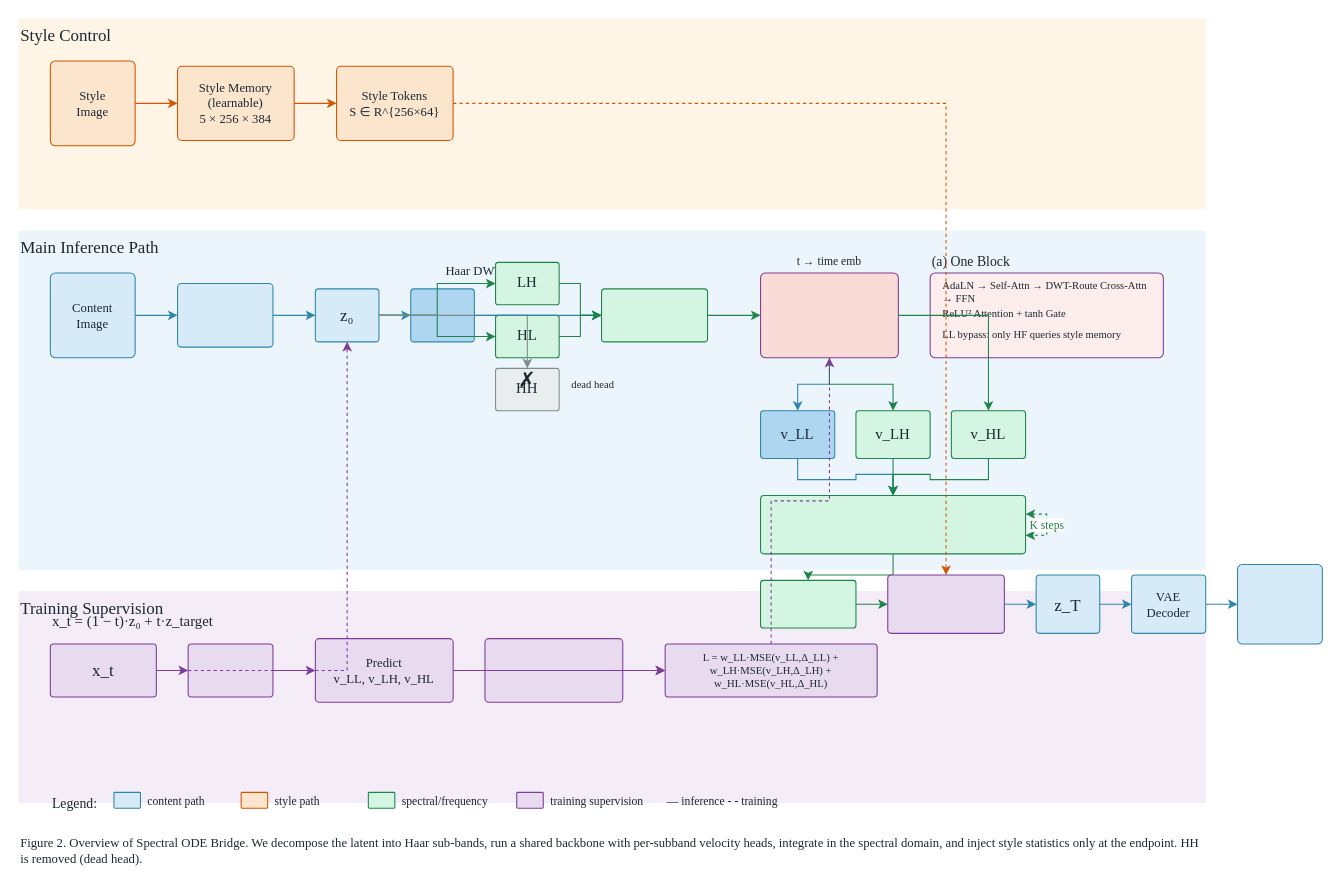
This 1341x884 diagram has some shape labels left out. Each missing label, with the centre of its shape:
Backbone (×4 blocks) Shared Representation: [828,315]
DWT: [230,670]
Endpoint AdaIN/WCT: [945,603]
iDWT: [807,603]
LL: [442,315]
Spectral ODE Integrator Euler/Heun: h ← h + v·dt (K steps): [892,524]
Stack & Project (16 → 64): [654,315]
Stylized Output: [1279,603]
Target Δ_i = DWT(z_target−z₀)_i: [553,670]
VAE Encoder: [224,314]
